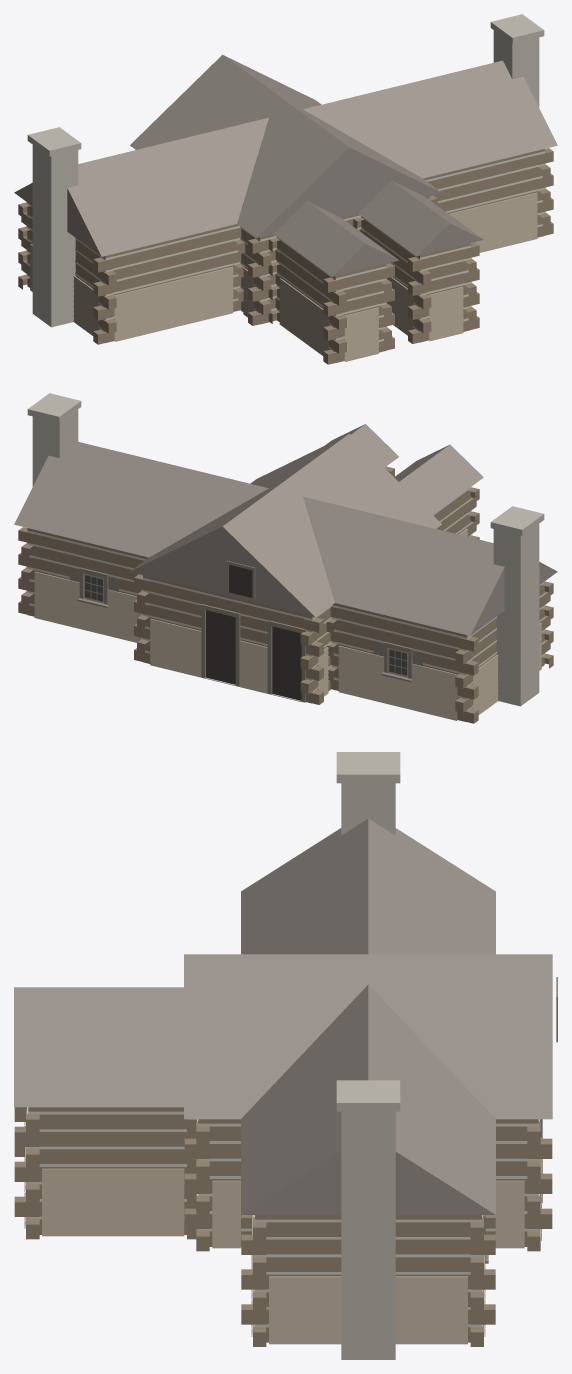
Rendered from cobweb_castle__log_1820.glb.
The picture shows the model from 3 angles, top to bottom: view 1: azimuth 30°, elevation 25°; view 2: azimuth 150°, elevation 25°; view 3: azimuth 270°, elevation 25°; orthographic projection. The views are drawn at different scales.
Parts seen in each view (by area): view 1: cobweb_castle__log_1820; view 2: cobweb_castle__log_1820; view 3: cobweb_castle__log_1820.
Boxes of the visible parts, x1,y1,x2,y2 form: cobweb_castle__log_1820: (14,14,557,364); cobweb_castle__log_1820: (14,393,557,723); cobweb_castle__log_1820: (14,752,557,1359).
Bounding box in the file's own units: 14.64 × 5.05 × 9.59.
